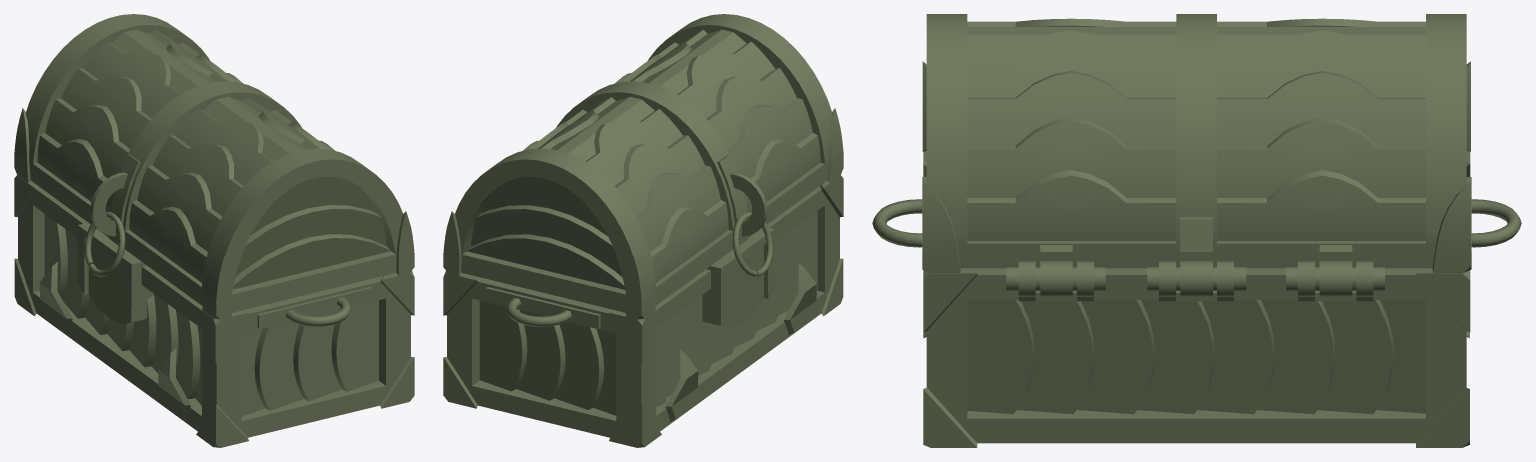
The model's file is Armored_chest_without_thorns.FBX.
3 views of the same model, side by side, from view 1: azimuth 30°, elevation 25°; view 2: azimuth 150°, elevation 25°; view 3: azimuth 270°, elevation 25° (orthographic). The views are drawn at different scales.
Visible parts, largest first — view 1: Armored_chest_without_thorns; view 2: Armored_chest_without_thorns; view 3: Armored_chest_without_thorns.
Boxes of the visible parts, left/top/right/bottom form: Armored_chest_without_thorns: left=14, top=14, right=414, bottom=447; Armored_chest_without_thorns: left=443, top=14, right=843, bottom=447; Armored_chest_without_thorns: left=872, top=14, right=1521, bottom=447.
Bounding box in the file's own units: 126 × 214 × 130.
